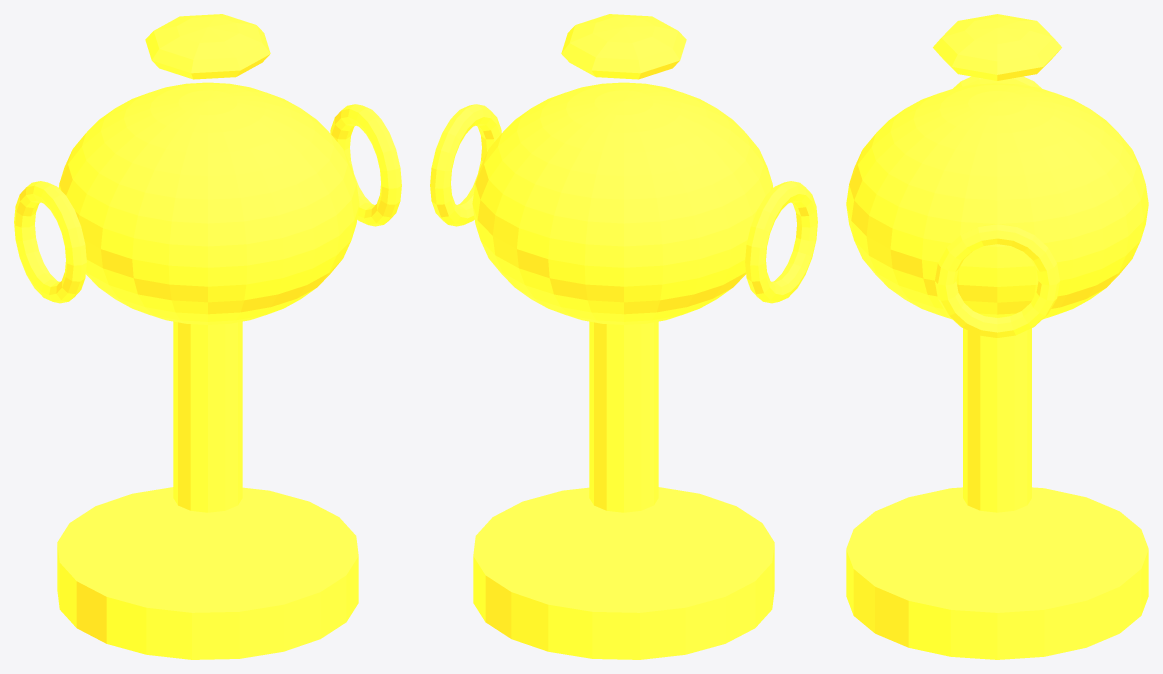
The model's file is trophy.glb.
3 renders of one model, left to right at view 1: azimuth 30°, elevation 25°; view 2: azimuth 150°, elevation 25°; view 3: azimuth 270°, elevation 25°, orthographic.
Visible parts, largest first — view 1: Trophy; view 2: Trophy; view 3: Trophy.
Part boxes in pixels (left/top/right/bottom): Trophy: left=14, top=14, right=401, bottom=659; Trophy: left=430, top=14, right=817, bottom=659; Trophy: left=846, top=14, right=1148, bottom=659.
Size of the model in its own units: 0.89 by 1.45 by 0.7.
